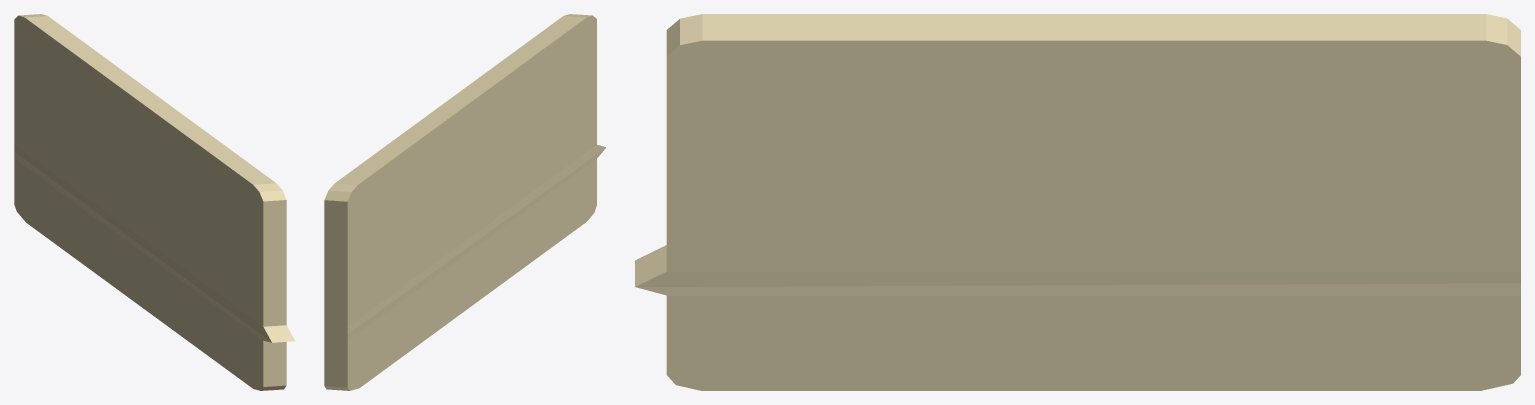
File: dialog box.fbx
3 renders of one model, left to right at view 1: azimuth 30°, elevation 25°; view 2: azimuth 150°, elevation 25°; view 3: azimuth 270°, elevation 25°, orthographic. The views are drawn at different scales.
Parts seen in each view (by area): view 1: Plane; view 2: Plane; view 3: Plane.
Boxes of the visible parts, x1,y1,x2,y2 form: Plane: [14, 14, 294, 390]; Plane: [324, 14, 606, 390]; Plane: [635, 14, 1520, 390].
Size of the model in its own units: 16.98 by 143 by 321.
